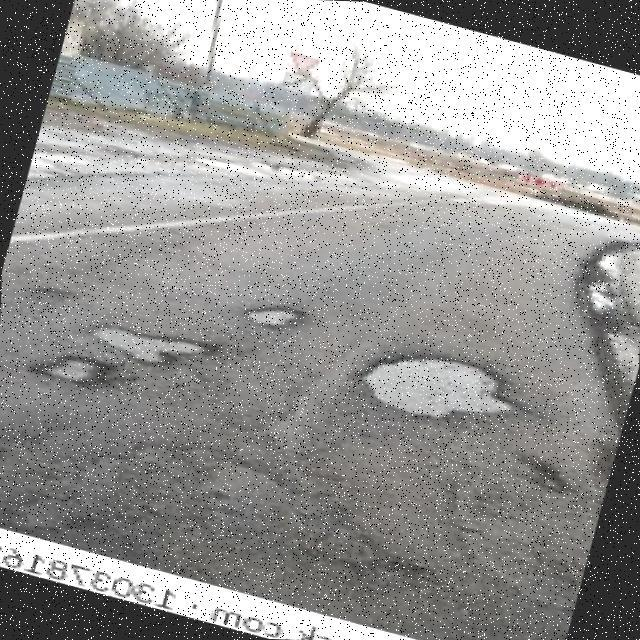Pothole: (363, 356, 527, 418), (93, 327, 214, 365), (30, 354, 108, 389), (242, 306, 304, 330)
